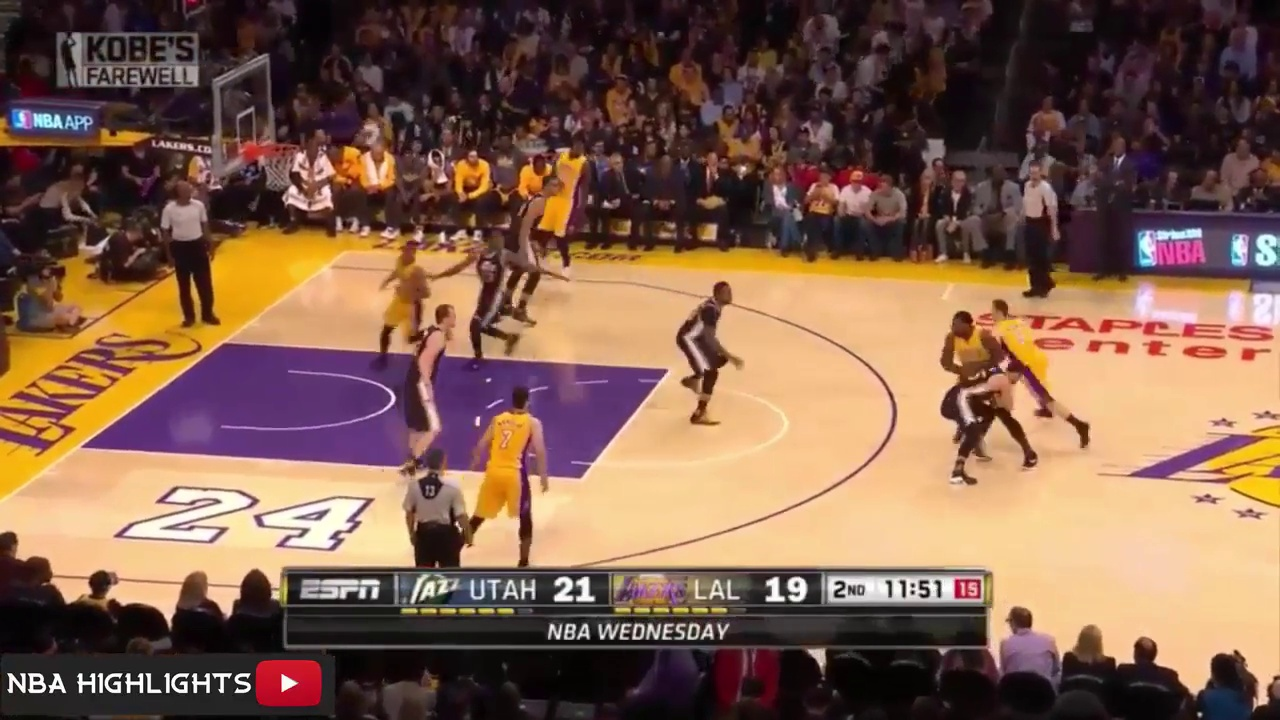jazz: (454, 228, 560, 358), (671, 278, 747, 429), (938, 363, 1029, 483), (402, 306, 463, 468), (508, 177, 563, 319)
lakers: (466, 384, 561, 563), (997, 302, 1097, 439), (545, 136, 592, 266), (379, 235, 426, 365), (945, 302, 1000, 377)
